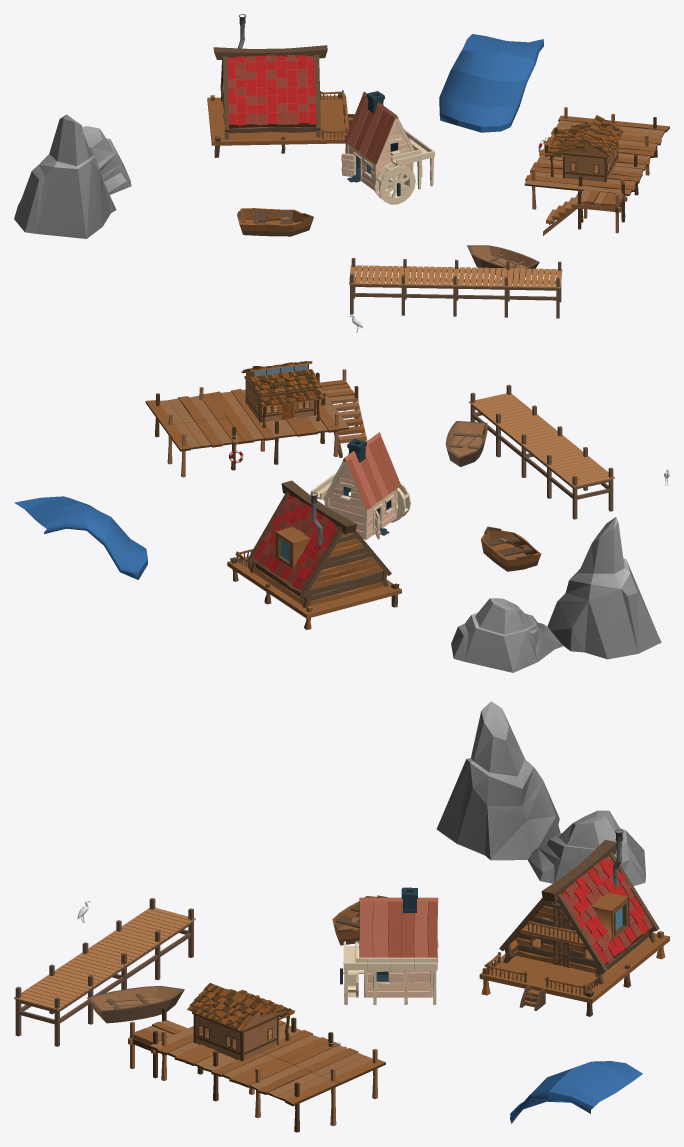
3 views of the same model, one above another, from view 1: azimuth 30°, elevation 25°; view 2: azimuth 150°, elevation 25°; view 3: azimuth 270°, elevation 25° (orthographic). The views are drawn at different scales.
Parts seen in each view (by area): view 1: node_M_House_-112376, node_Rock02_-112492, node__M_Floting_Base_1_1_-112288, node_M_House_Base_-112380, node__WatermillGroup_MeshRendererMap_2_-112312, node_M_House_2_-112378, node_SPW_Medieval_Props_Stand_01_001_-112794, node_SPW_Medieval_Props_Stand_01_002_-112796, node_M_Boat_-112346, node_Rock01_-112484, node_SPW_Medieval_Boat_002_-112792; view 2: node_M_House_-112376, node_M_House_Base_-112380, node_Rock02_-112492, node__WatermillGroup_MeshRendererMap_2_-112312, node_Rock01_-112484, node__M_Floting_Base_1_1_-112288, node_M_House_2_-112378, node_SPW_Medieval_Props_Stand_01_001_-112794, node_SPW_Medieval_Props_Stand_01_002_-112796, node_M_Boat_-112346, node_SPW_Medieval_Boat_002_-112792; view 3: node_M_House_-112376, node_Rock02_-112492, node_M_House_Base_-112380, node__WatermillGroup_MeshRendererMap_2_-112312, node_M_House_2_-112378, node_SPW_Medieval_Props_Stand_01_002_-112796, node_Rock01_-112484, node_SPW_Medieval_Props_Stand_01_001_-112794, node__M_Floting_Base_1_1_-112288, node_SPW_Medieval_Boat_002_-112792, node_M_Boat_-112346.
Part boxes in pixels (<box>): node_M_House_-112376: <box>207,14,354,157</box>; node_Rock02_-112492: <box>14,114,116,238</box>; node__M_Floting_Base_1_1_-112288: <box>439,34,543,132</box>; node_M_House_Base_-112380: <box>524,107,669,235</box>; node__WatermillGroup_MeshRendererMap_2_-112312: <box>341,91,434,204</box>; node_M_House_2_-112378: <box>544,115,624,182</box>; node_SPW_Medieval_Props_Stand_01_001_-112794: <box>349,258,459,316</box>; node_SPW_Medieval_Props_Stand_01_002_-112796: <box>452,260,562,318</box>; node_M_Boat_-112346: <box>237,208,313,236</box>; node_Rock01_-112484: <box>82,126,131,194</box>; node_SPW_Medieval_Boat_002_-112792: <box>467,245,539,279</box>; node_M_House_-112376: <box>227,480,401,629</box>; node_M_House_Base_-112380: <box>145,369,367,477</box>; node_Rock02_-112492: <box>547,517,661,659</box>; node__WatermillGroup_MeshRendererMap_2_-112312: <box>311,432,410,539</box>; node_Rock01_-112484: <box>451,598,562,672</box>; node__M_Floting_Base_1_1_-112288: <box>14,496,147,579</box>; node_M_House_2_-112378: <box>241,361,324,427</box>; node_SPW_Medieval_Props_Stand_01_001_-112794: <box>520,426,614,519</box>; node_SPW_Medieval_Props_Stand_01_002_-112796: <box>469,384,563,477</box>; node_M_Boat_-112346: <box>481,526,541,571</box>; node_SPW_Medieval_Boat_002_-112792: <box>445,421,487,466</box>; node_M_House_-112376: <box>479,829,669,1016</box>; node_Rock02_-112492: <box>436,701,560,860</box>; node_M_House_Base_-112380: <box>128,1007,385,1132</box>; node__WatermillGroup_MeshRendererMap_2_-112312: <box>340,887,438,1004</box>; node_M_House_2_-112378: <box>187,983,295,1061</box>; node_SPW_Medieval_Props_Stand_01_002_-112796: <box>14,953,124,1046</box>; node_Rock01_-112484: <box>528,810,645,885</box>; node_SPW_Medieval_Props_Stand_01_001_-112794: <box>81,898,195,989</box>; node__M_Floting_Base_1_1_-112288: <box>510,1061,642,1123</box>; node_SPW_Medieval_Boat_002_-112792: <box>87,986,184,1023</box>; node_M_Boat_-112346: <box>332,895,387,945</box>.
Size of what is drawn, in the model's own units: 33.09 by 7.68 by 27.61.
Materials: 11 (3 with a texture image).
